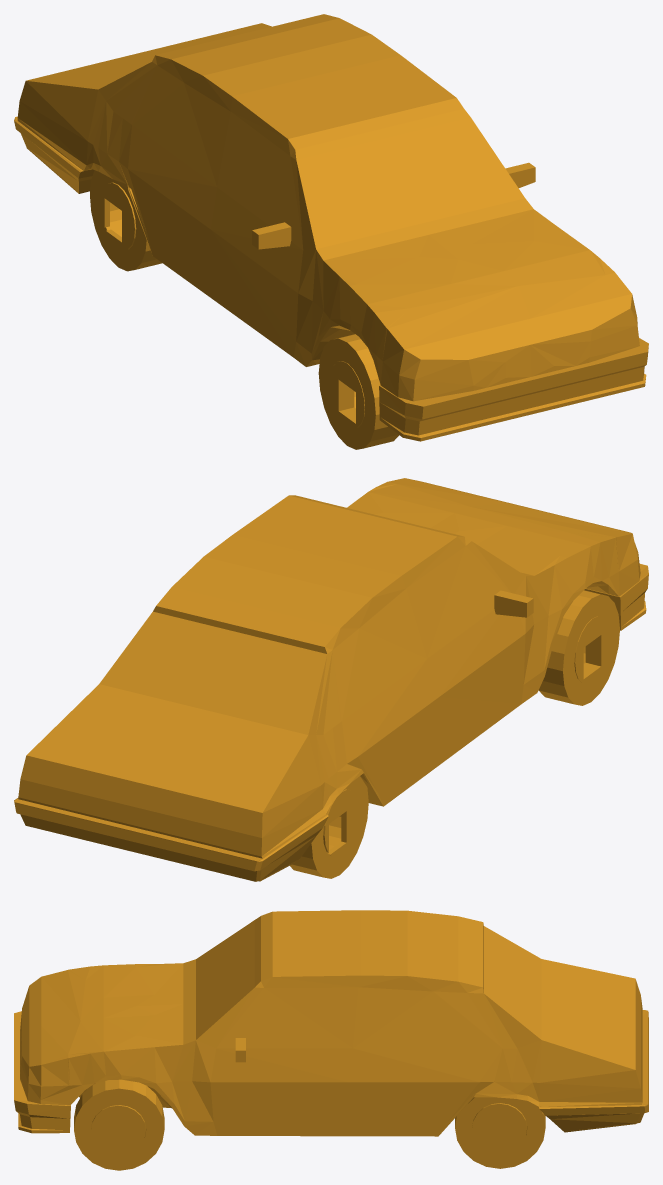
Rendered from CocheNaranja.glb.
3 renders of one model, top to bottom at view 1: azimuth 30°, elevation 25°; view 2: azimuth 150°, elevation 25°; view 3: azimuth 270°, elevation 25°, orthographic. The views are drawn at different scales.
Parts seen in each view (by area): view 1: Mesh_Mesh_head_geo.001_lambert2SG.001; view 2: Mesh_Mesh_head_geo.001_lambert2SG.001; view 3: Mesh_Mesh_head_geo.001_lambert2SG.001.
Boxes of the visible parts, x1,y1,x2,y2 form: Mesh_Mesh_head_geo.001_lambert2SG.001: [14, 14, 648, 449]; Mesh_Mesh_head_geo.001_lambert2SG.001: [14, 478, 648, 881]; Mesh_Mesh_head_geo.001_lambert2SG.001: [14, 910, 648, 1170].
Size of the model in its own units: 0.0405 by 0.032 by 0.1013.
